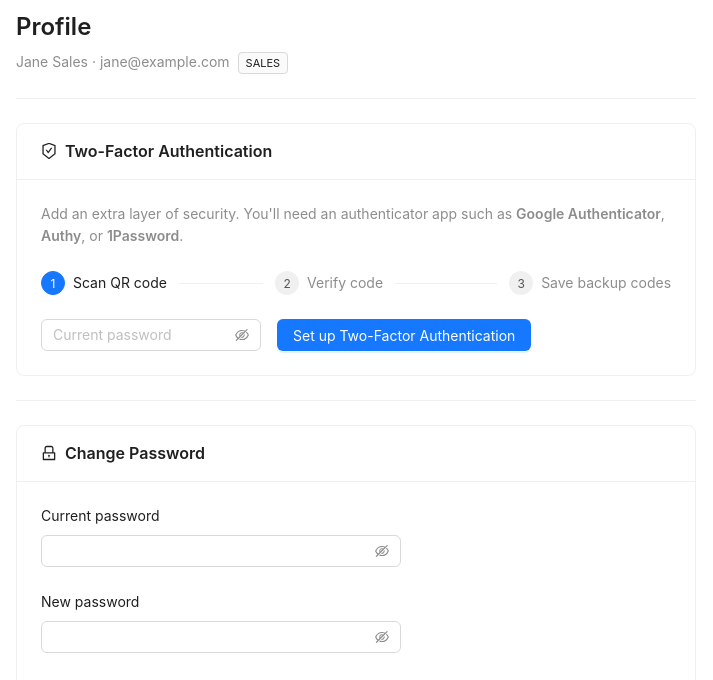
ProfileView › shows an error when starting setup fails
This screenshot has width=713, height=680.
Type "wrong" into the 1st password field with placeholder "Current password" at (142, 335), box top-left (53, 324), bottom-right (231, 346)
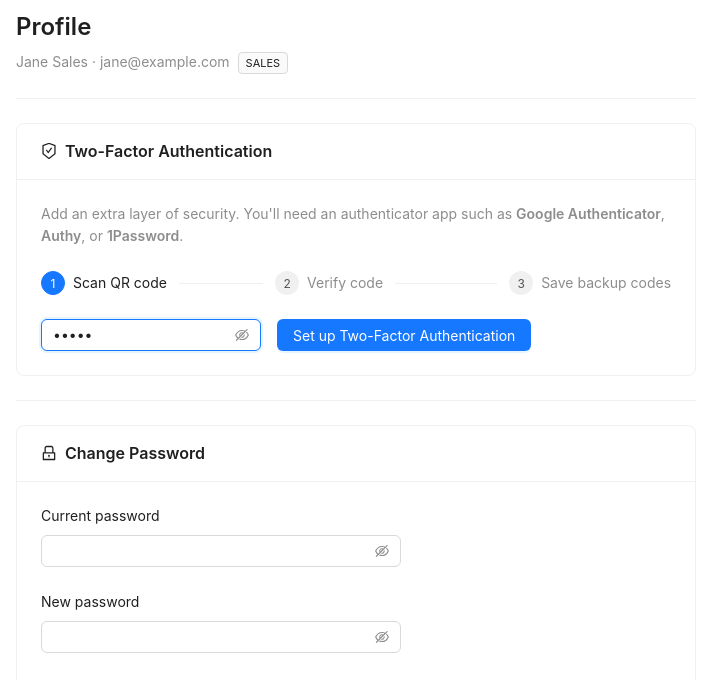
Click the button "Set up Two-Factor Authentication" at (404, 335), box top-left (277, 319), bottom-right (531, 351)
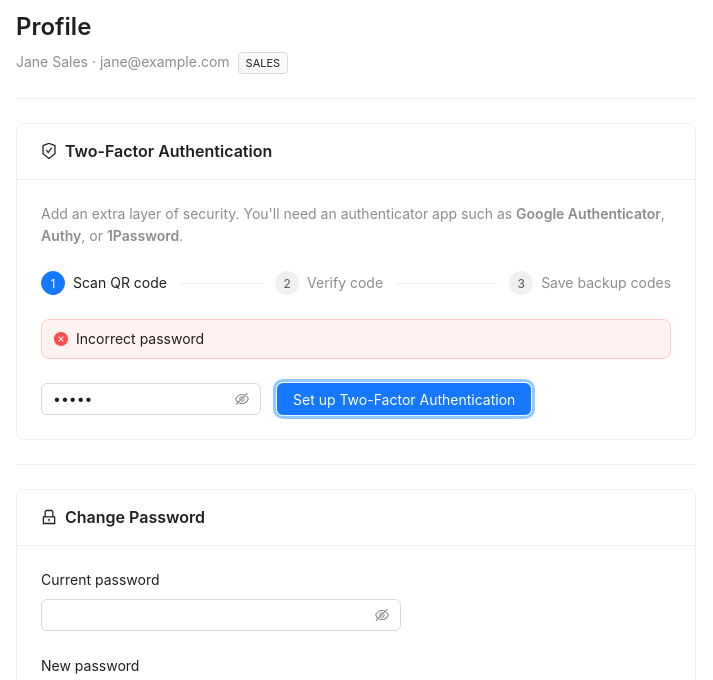
Expected: the text "Incorrect password" is shown, top-left (76, 330), bottom-right (204, 347)
